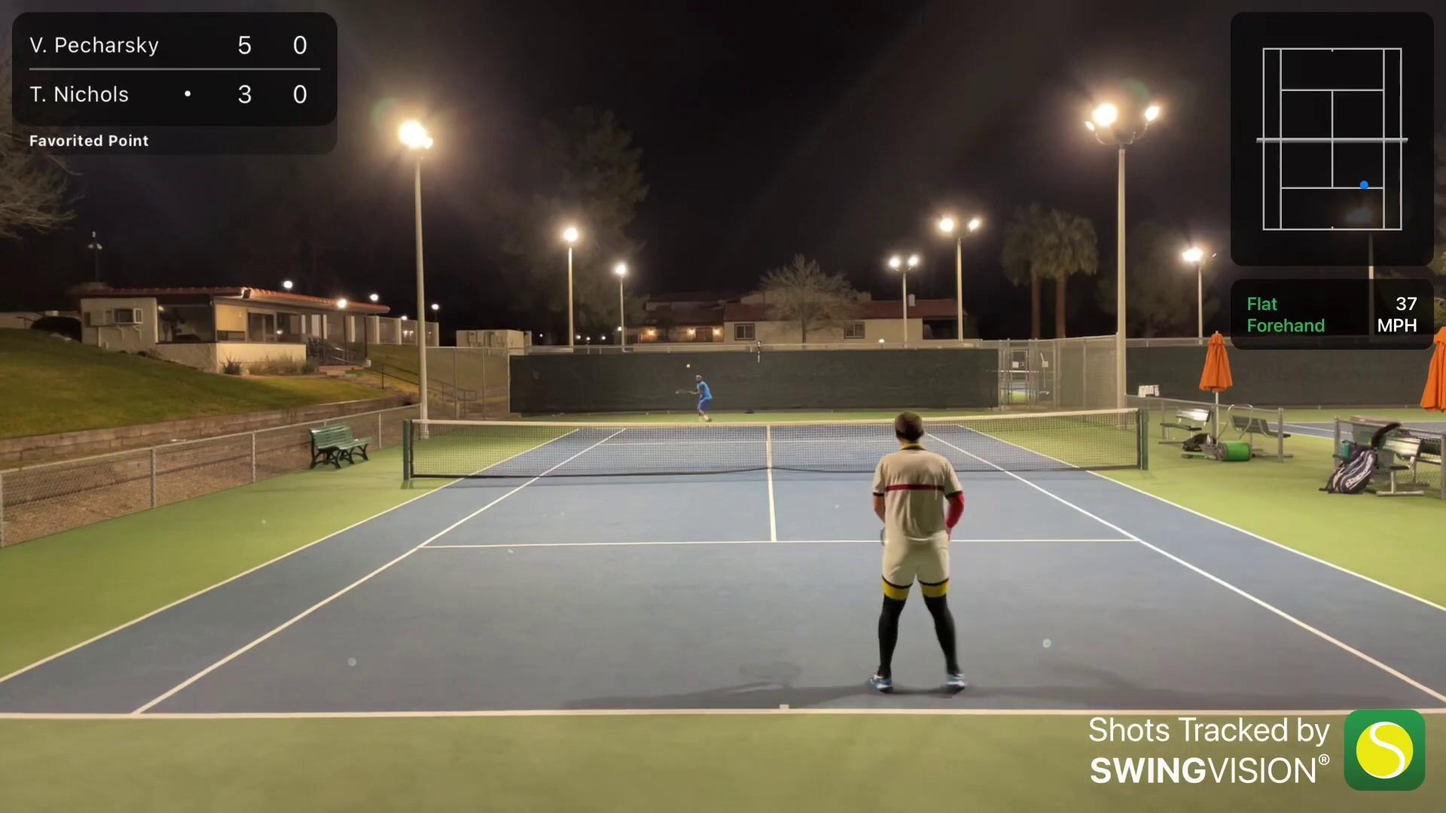ball: (684, 361, 691, 369)
